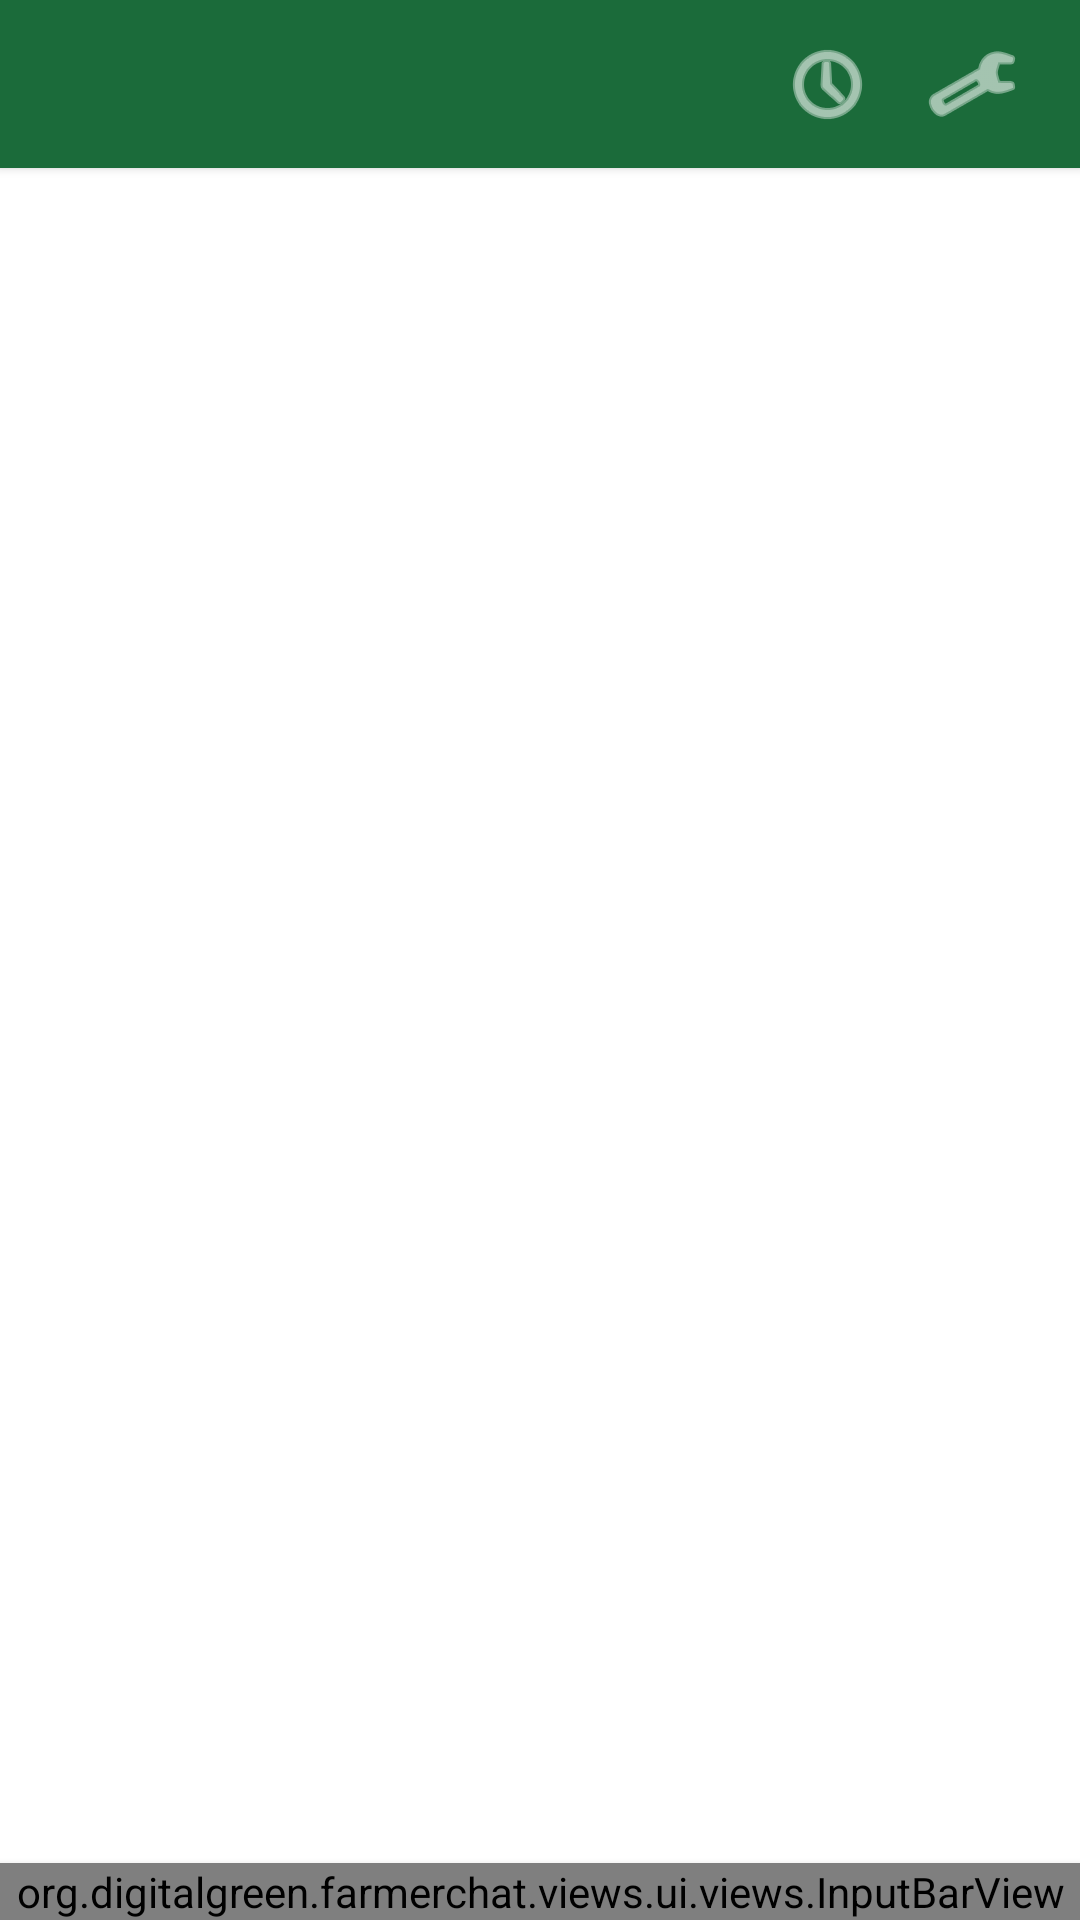

Named icons in this screenshot (1080px x 1920px) and their bounding boxes, (x1, y1, x2, y2):
History: (793, 50, 862, 119)
